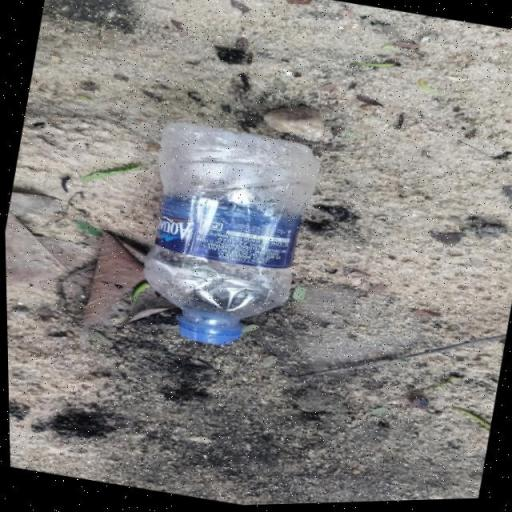plastic: (120, 114, 330, 363)
